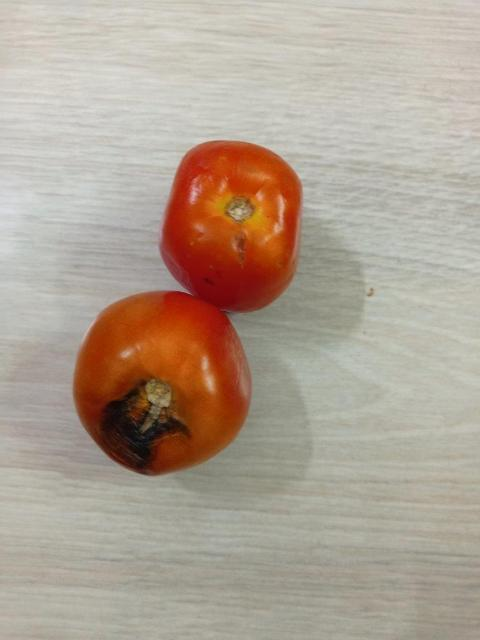defect: (74, 294, 249, 474), (156, 139, 307, 311)
